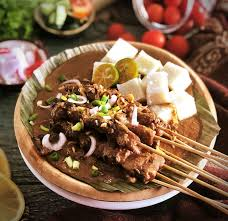sate: (33, 50, 204, 202)
